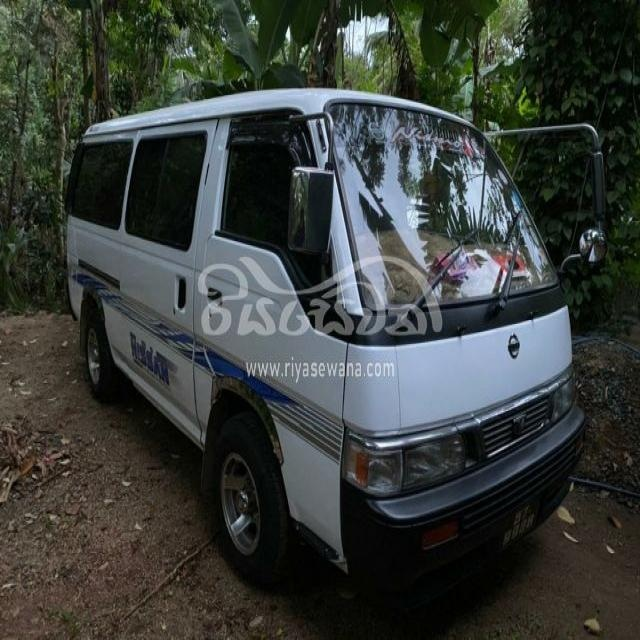Van: (52, 75, 607, 593)
